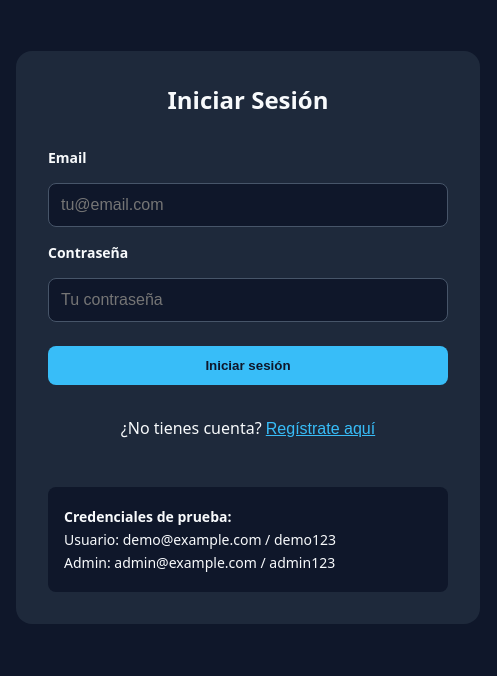
Login › muestra error cuando las credenciales son inválidas
This screenshot has width=497, height=676.
Type "wrong@test.com" into the field labelled "Email" at (248, 204), box top-left (48, 182), bottom-right (448, 226)
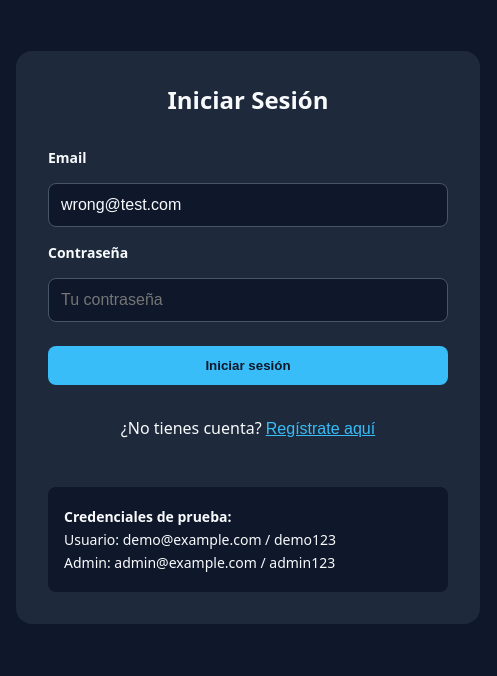
Type "wrongpass" into the password field labelled "Contraseña" at (248, 300), box top-left (48, 278), bottom-right (448, 322)
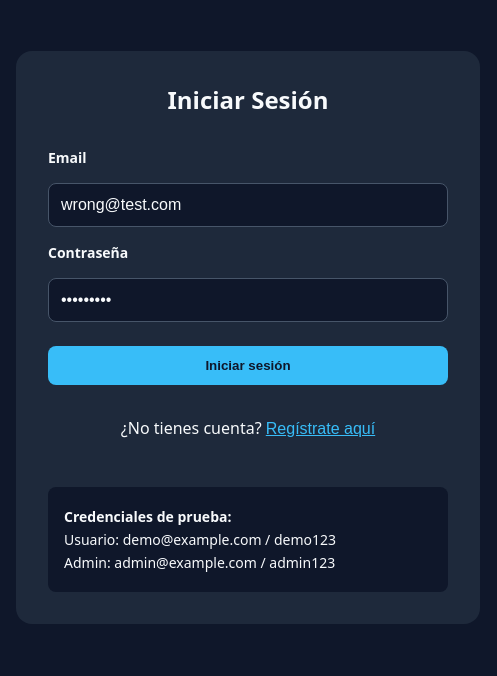
Submit the form from the button "Iniciar sesión", box top-left (48, 346), bottom-right (448, 384)
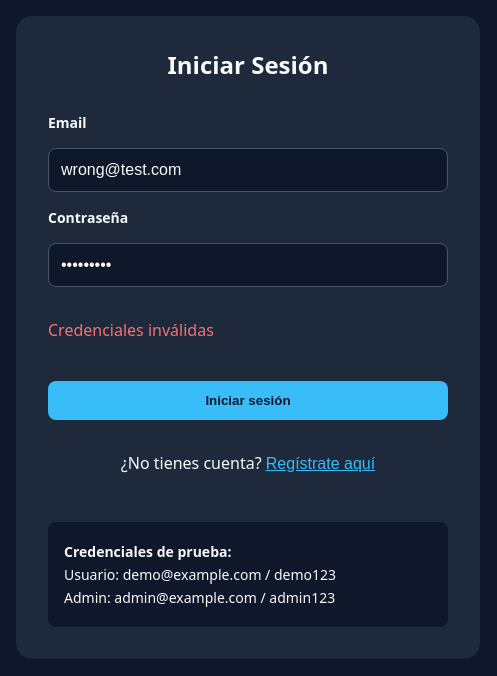
Expected: the text "Credenciales inválidas" is shown, top-left (48, 318), bottom-right (214, 340)
